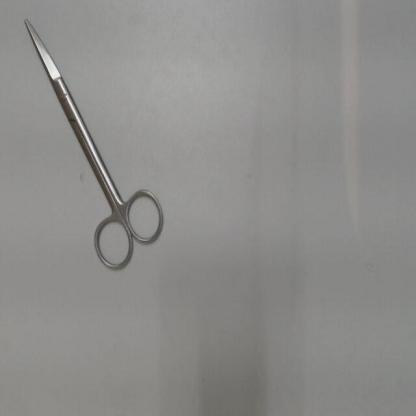Curved Mayo Scissors: (18, 14, 170, 279)
